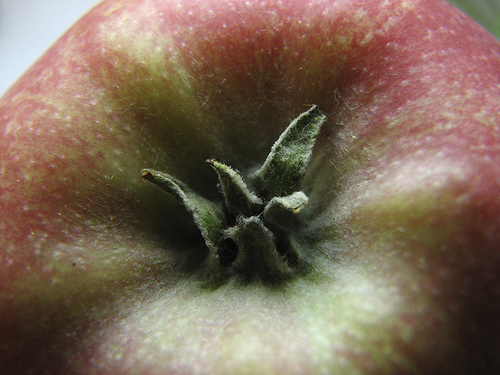apple: (2, 1, 498, 372)
